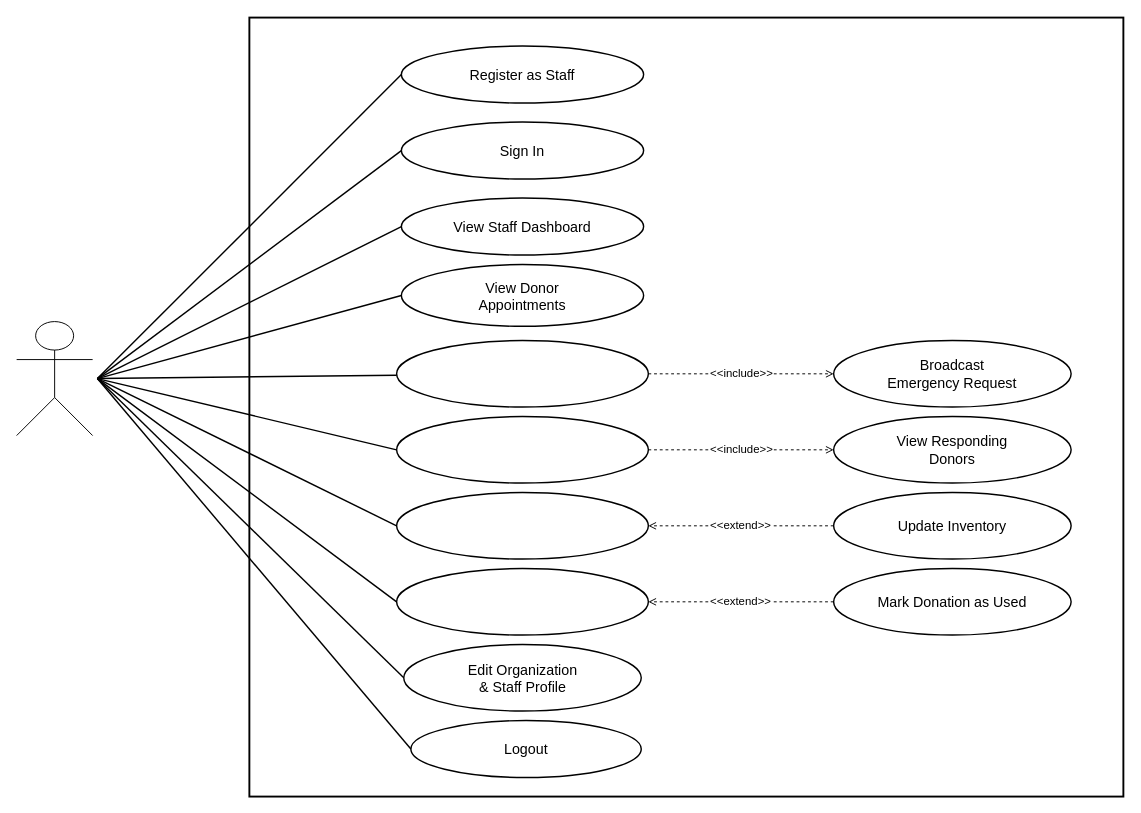
The diagram is 1141 pixels wide and 813 high, and some of its shapes have lost their labels. The centre of each missing label's shape, as x and y in pixels:
Create Emergency Donation Request: [522,373]
Staff: [54,378]
View Active Emergency Dispatches: [522,449]
View Blood & Plasma Inventory: [522,525]
View Broadcast Audit Log: [522,601]
